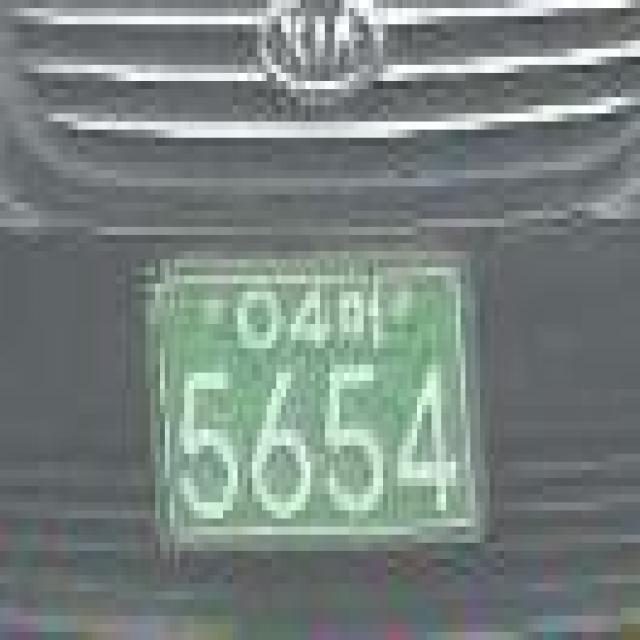illegal_plate: (130, 234, 502, 583)
